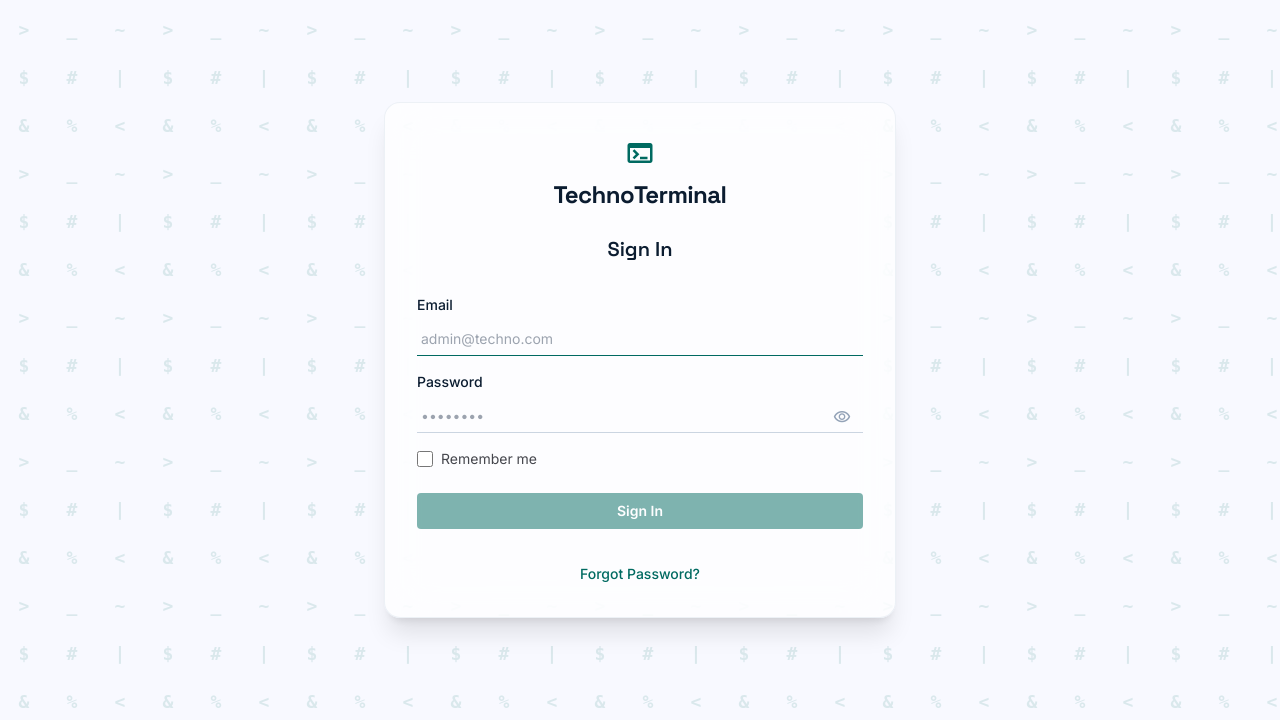
Test case: LoginPage › inputs are disabled during loading
Type "a@b.com" into the field labelled "Email".
click(640, 340); type("a@b.com")  # box 417,323 -> 863,356
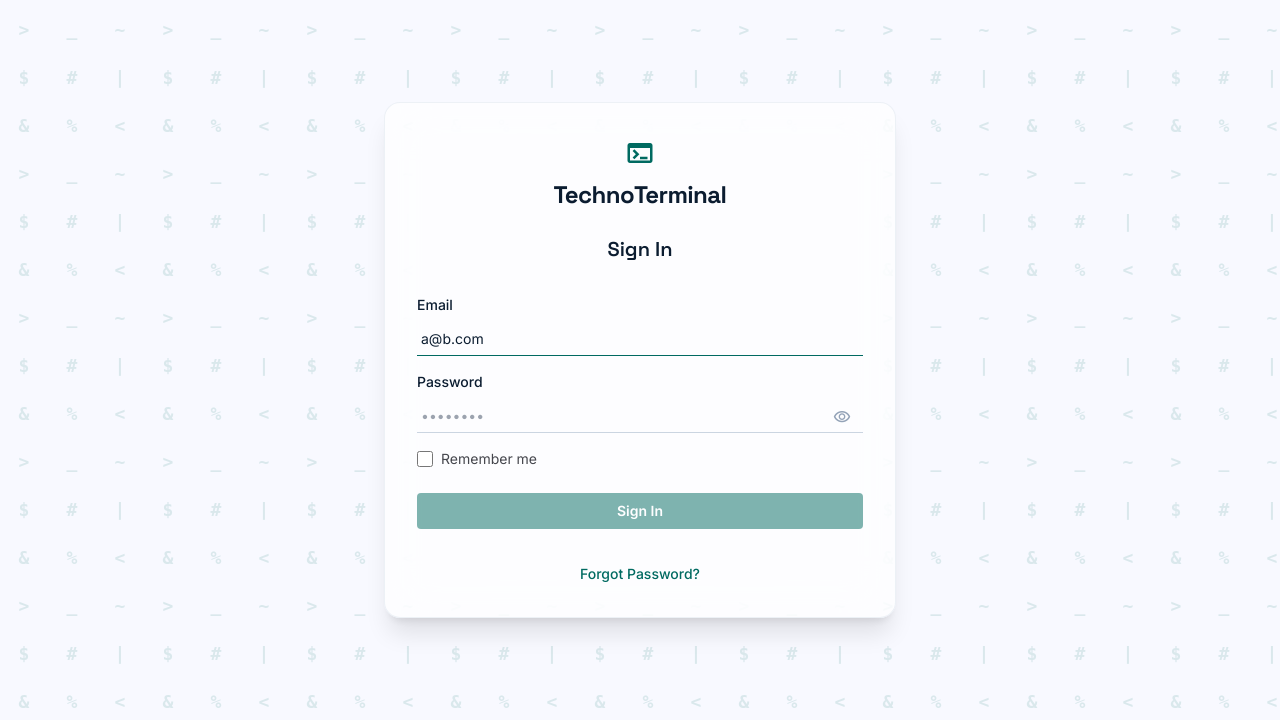
Type "pwd" into the password field labelled "Password".
click(640, 416); type("pwd")  # box 417,400 -> 863,433
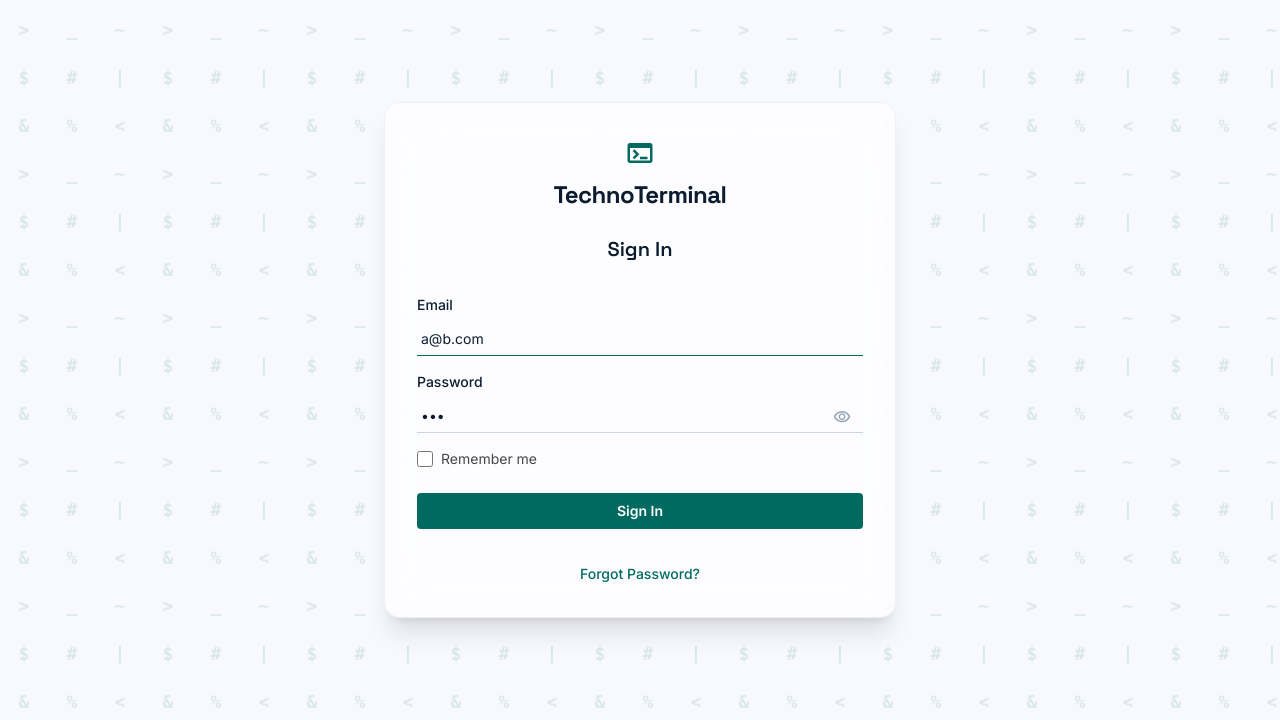
Click the button "Sign In".
click(640, 511)  # box 417,493 -> 863,529
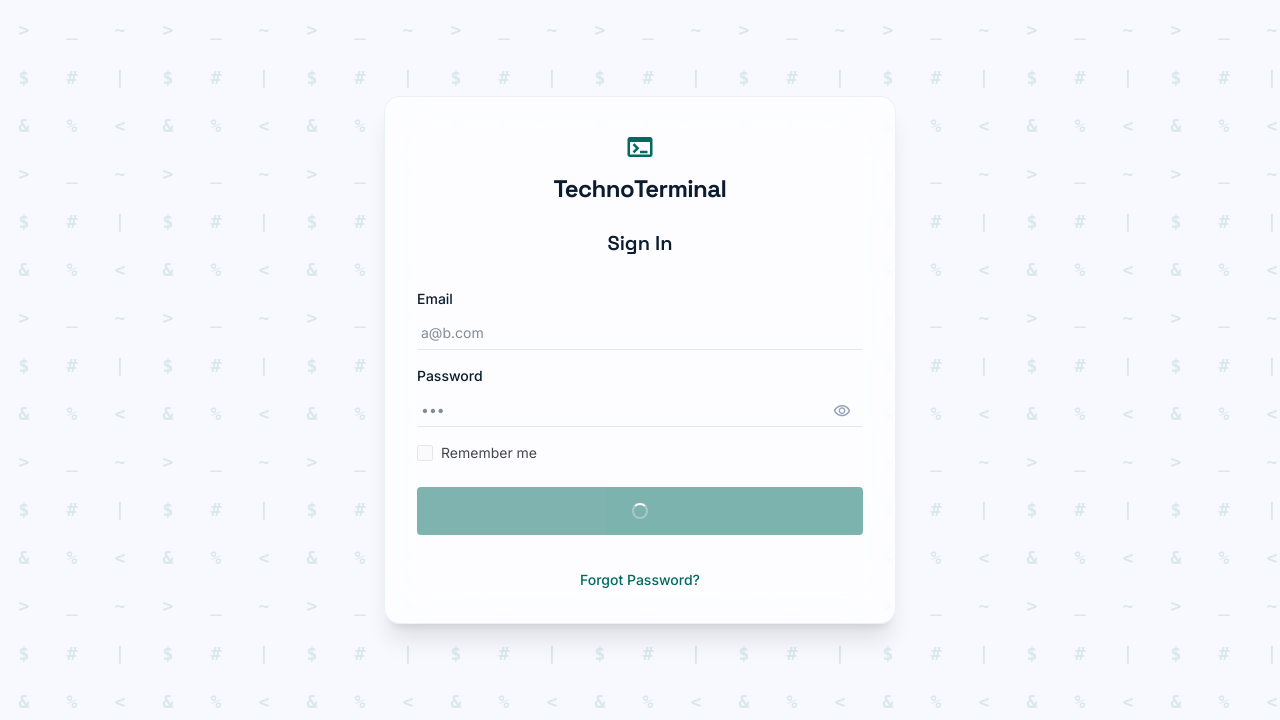
Expected: the field labelled "Email" is disabled, 417,317 -> 863,350
Expected: the password field labelled "Password" is disabled, 417,394 -> 863,427
